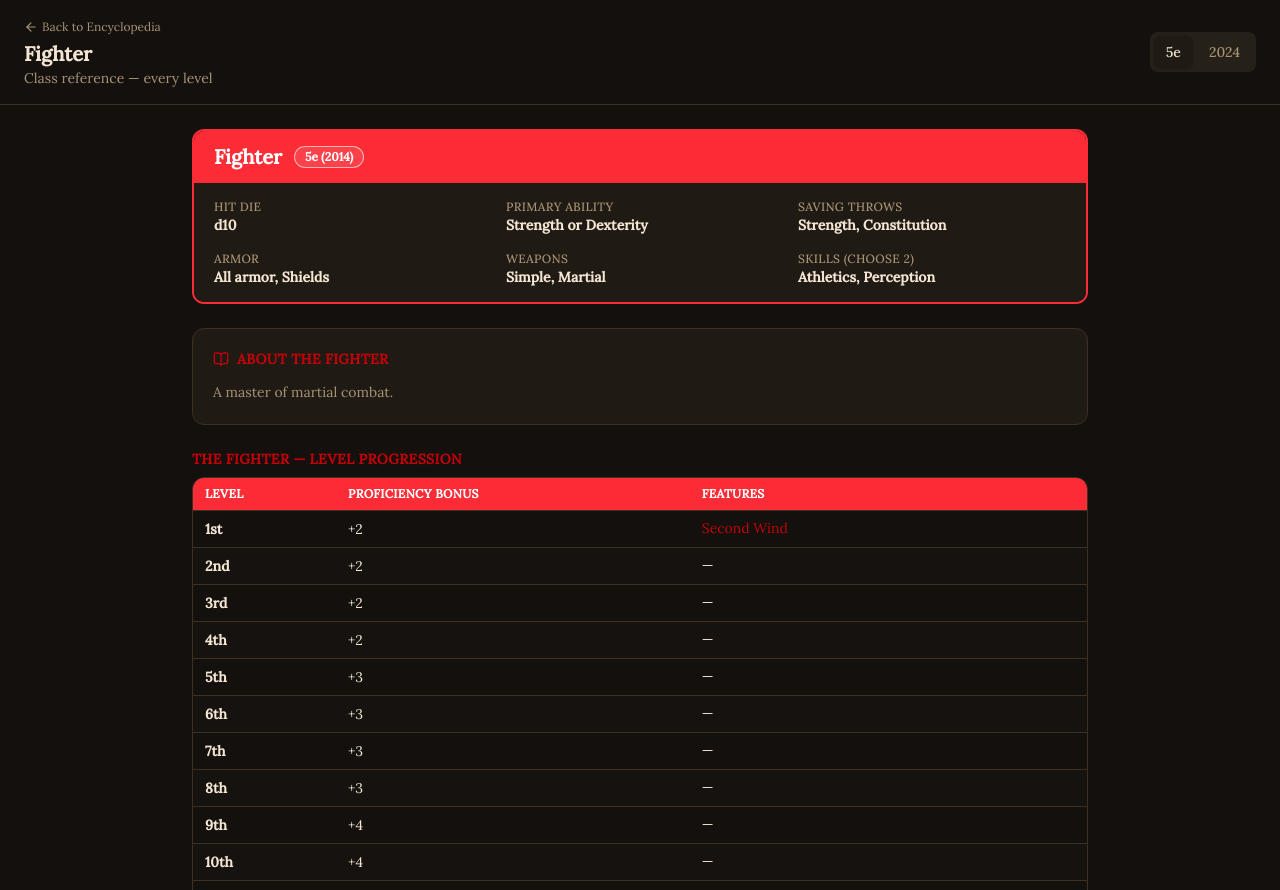
Test case: ClassPage › refetches when the edition toggle is switched
Expected: the text "5e (2014)" is shown, [294, 146, 364, 168]
Click the button with test id "class-page-edition-5.5e" at (1224, 52), box [1197, 36, 1252, 68]
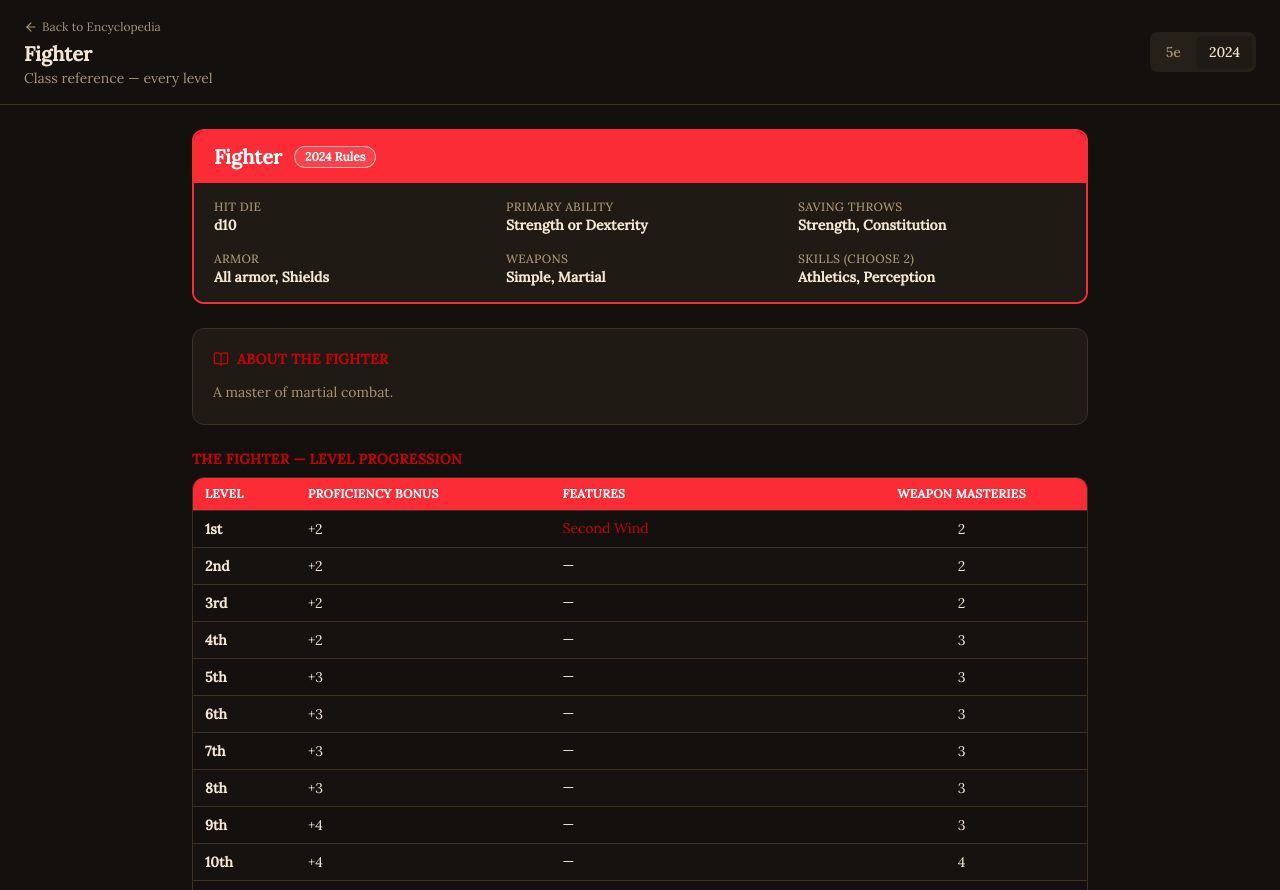
Expected: the text "2024 Rules" is shown, [294, 146, 376, 168]
